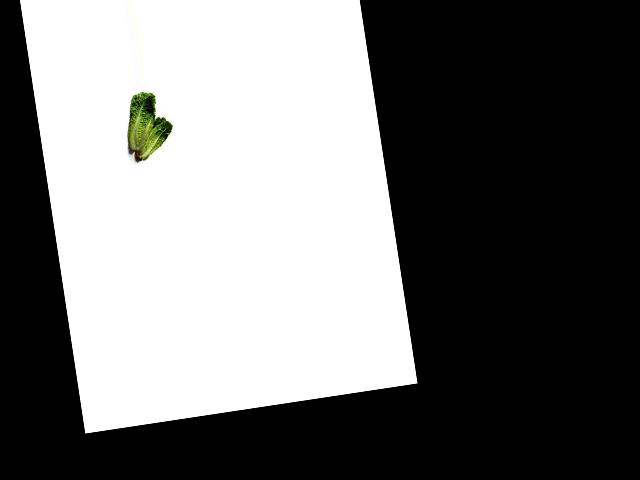lettuce: (128, 115, 177, 164)
